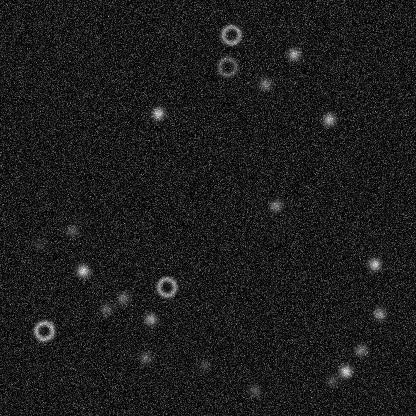Ring: (154, 274, 178, 298), (32, 318, 56, 342), (215, 54, 239, 78), (219, 22, 243, 46)
Spot: (97, 301, 113, 317), (30, 236, 46, 252), (320, 111, 336, 127), (257, 76, 273, 92), (324, 372, 340, 388), (196, 356, 212, 372), (285, 45, 301, 61), (149, 105, 165, 121), (267, 197, 283, 213), (137, 349, 153, 365), (114, 290, 130, 306), (246, 382, 262, 398), (366, 256, 382, 272), (142, 311, 158, 327), (63, 222, 79, 238), (352, 342, 368, 358), (371, 305, 387, 321), (74, 262, 90, 278), (337, 363, 353, 379)
